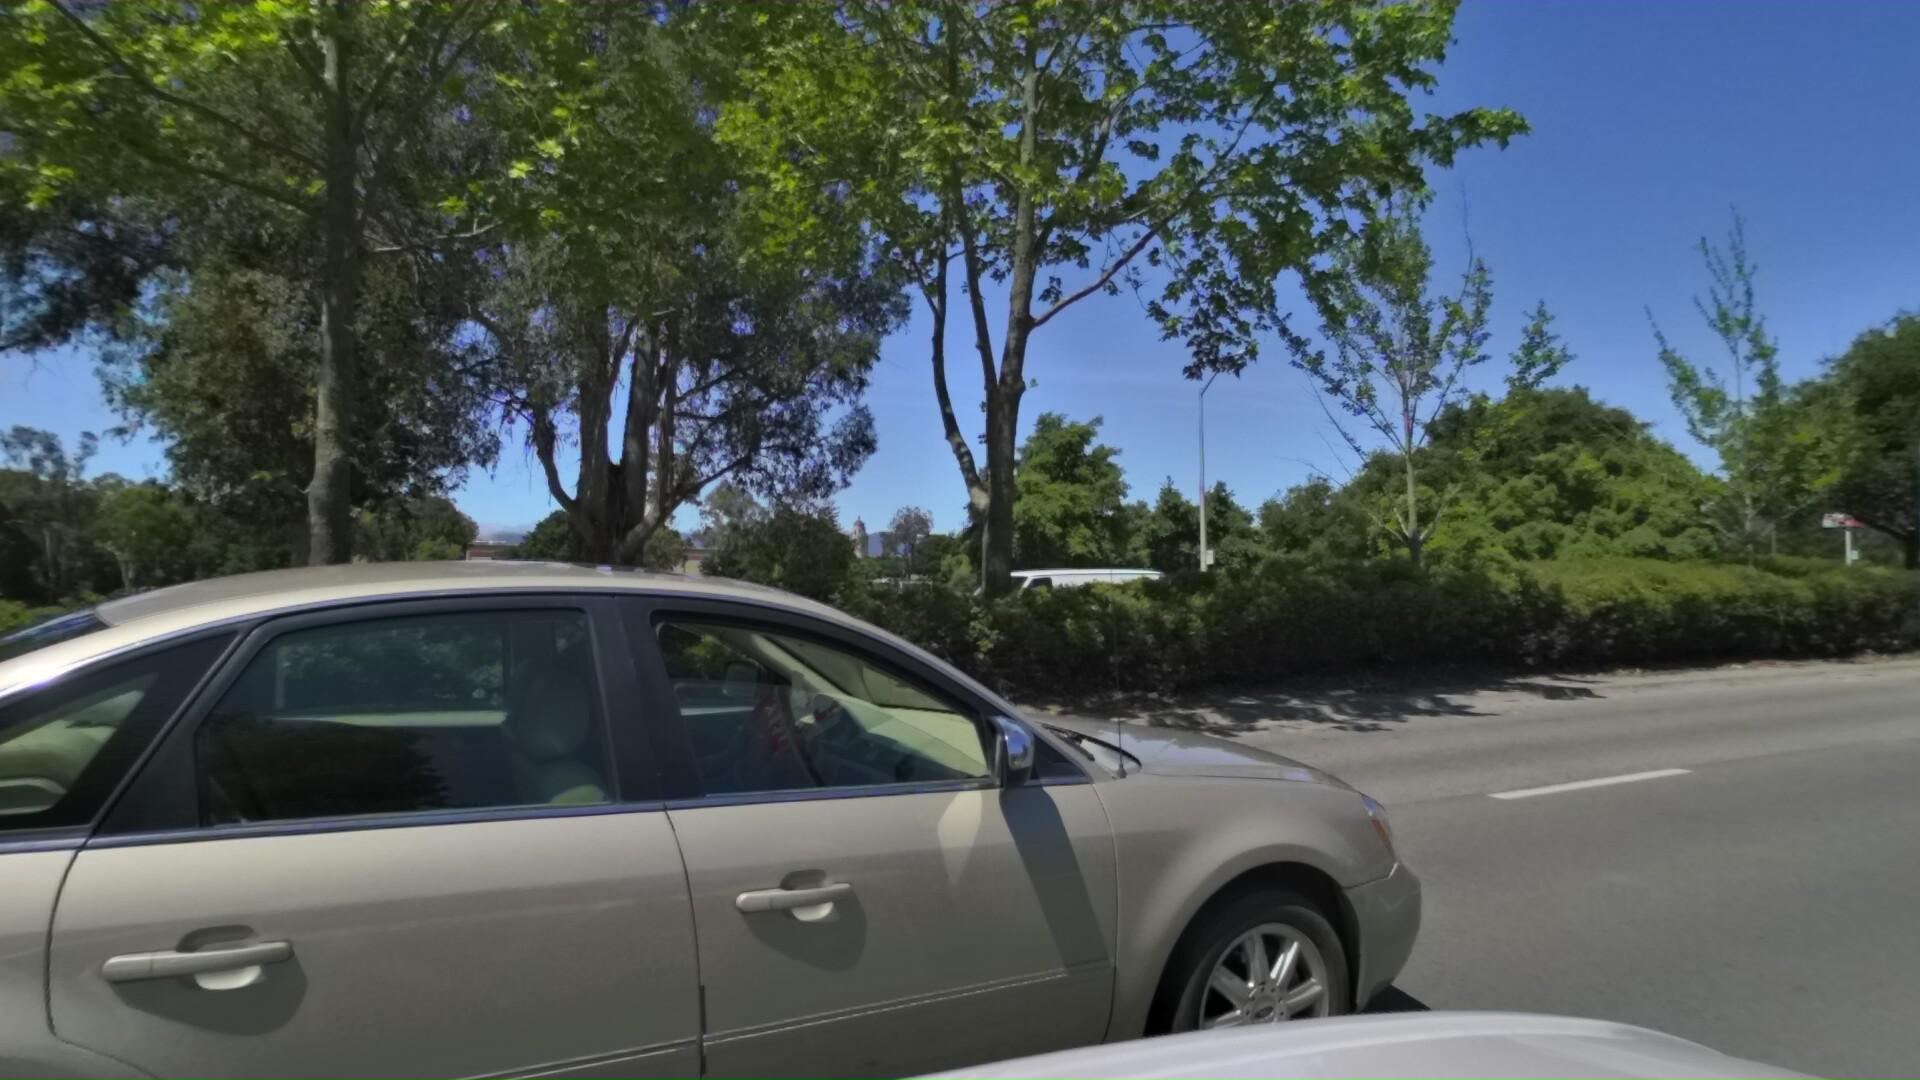car: (0, 415, 1557, 1080), (897, 563, 1139, 651)
truck: (1886, 407, 1920, 702)
